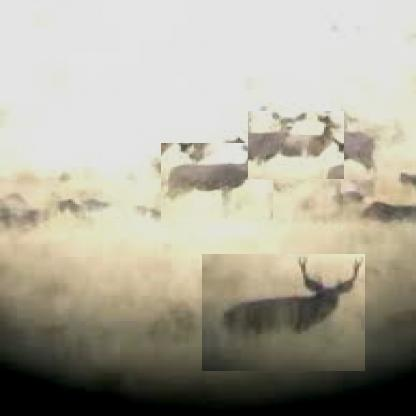Deer: (202, 254, 365, 371), (161, 143, 273, 222), (284, 111, 382, 188), (248, 111, 344, 179)
